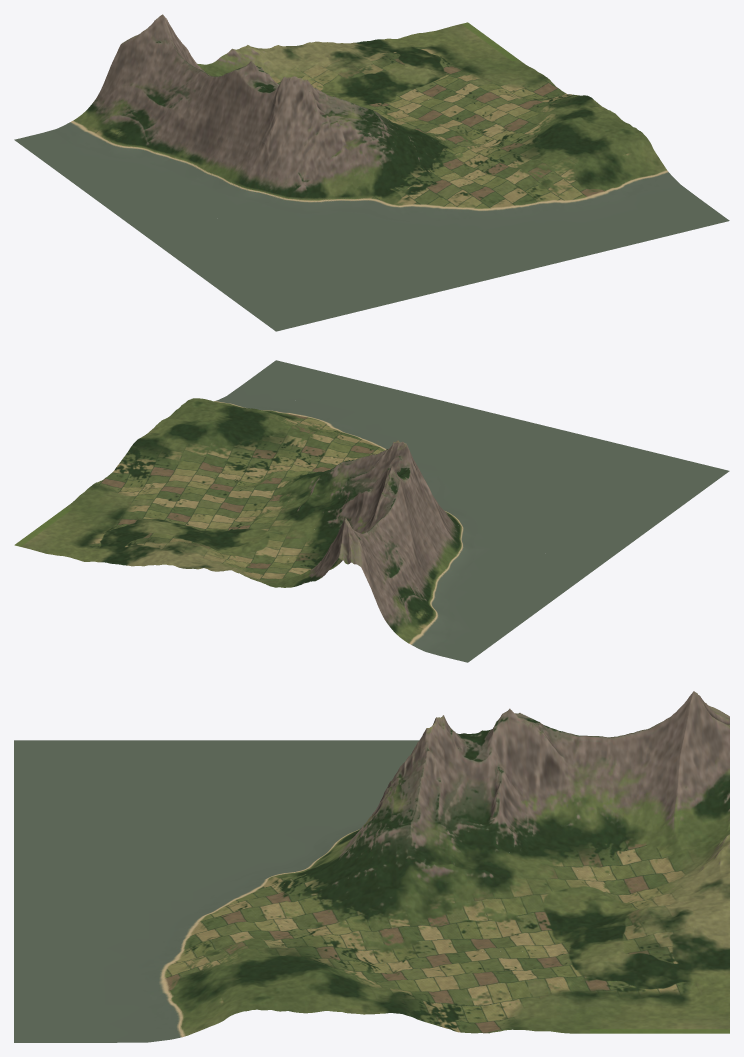
3 renders of one model, top to bottom at view 1: azimuth 30°, elevation 25°; view 2: azimuth 150°, elevation 25°; view 3: azimuth 270°, elevation 25°, orthographic. The views are drawn at different scales.
Visible parts, largest first — view 1: Terrain 01.2, Terrain 01.0, Terrain 01.1, Terrain 01.3; view 2: Terrain 01.2, Terrain 01.0, Terrain 01.1, Terrain 01.3; view 3: Terrain 01.2, Terrain 01.1, Terrain 01.0, Terrain 01.3.
Boxes of the visible parts, bbox=[...] form: Terrain 01.2: bbox=[145, 68, 663, 331]; Terrain 01.0: bbox=[14, 14, 279, 235]; Terrain 01.1: bbox=[241, 22, 532, 207]; Terrain 01.3: bbox=[584, 166, 729, 248]; Terrain 01.2: bbox=[80, 388, 729, 566]; Terrain 01.0: bbox=[242, 464, 598, 662]; Terrain 01.1: bbox=[14, 440, 484, 579]; Terrain 01.3: bbox=[214, 360, 388, 411]; Terrain 01.2: bbox=[14, 740, 550, 1033]; Terrain 01.1: bbox=[372, 715, 729, 1033]; Terrain 01.0: bbox=[372, 691, 729, 874]; Terrain 01.3: bbox=[14, 967, 192, 1042].
Bounding box in the file's own units: 5000 × 1075 × 5000.
1 material, 1 textured.
